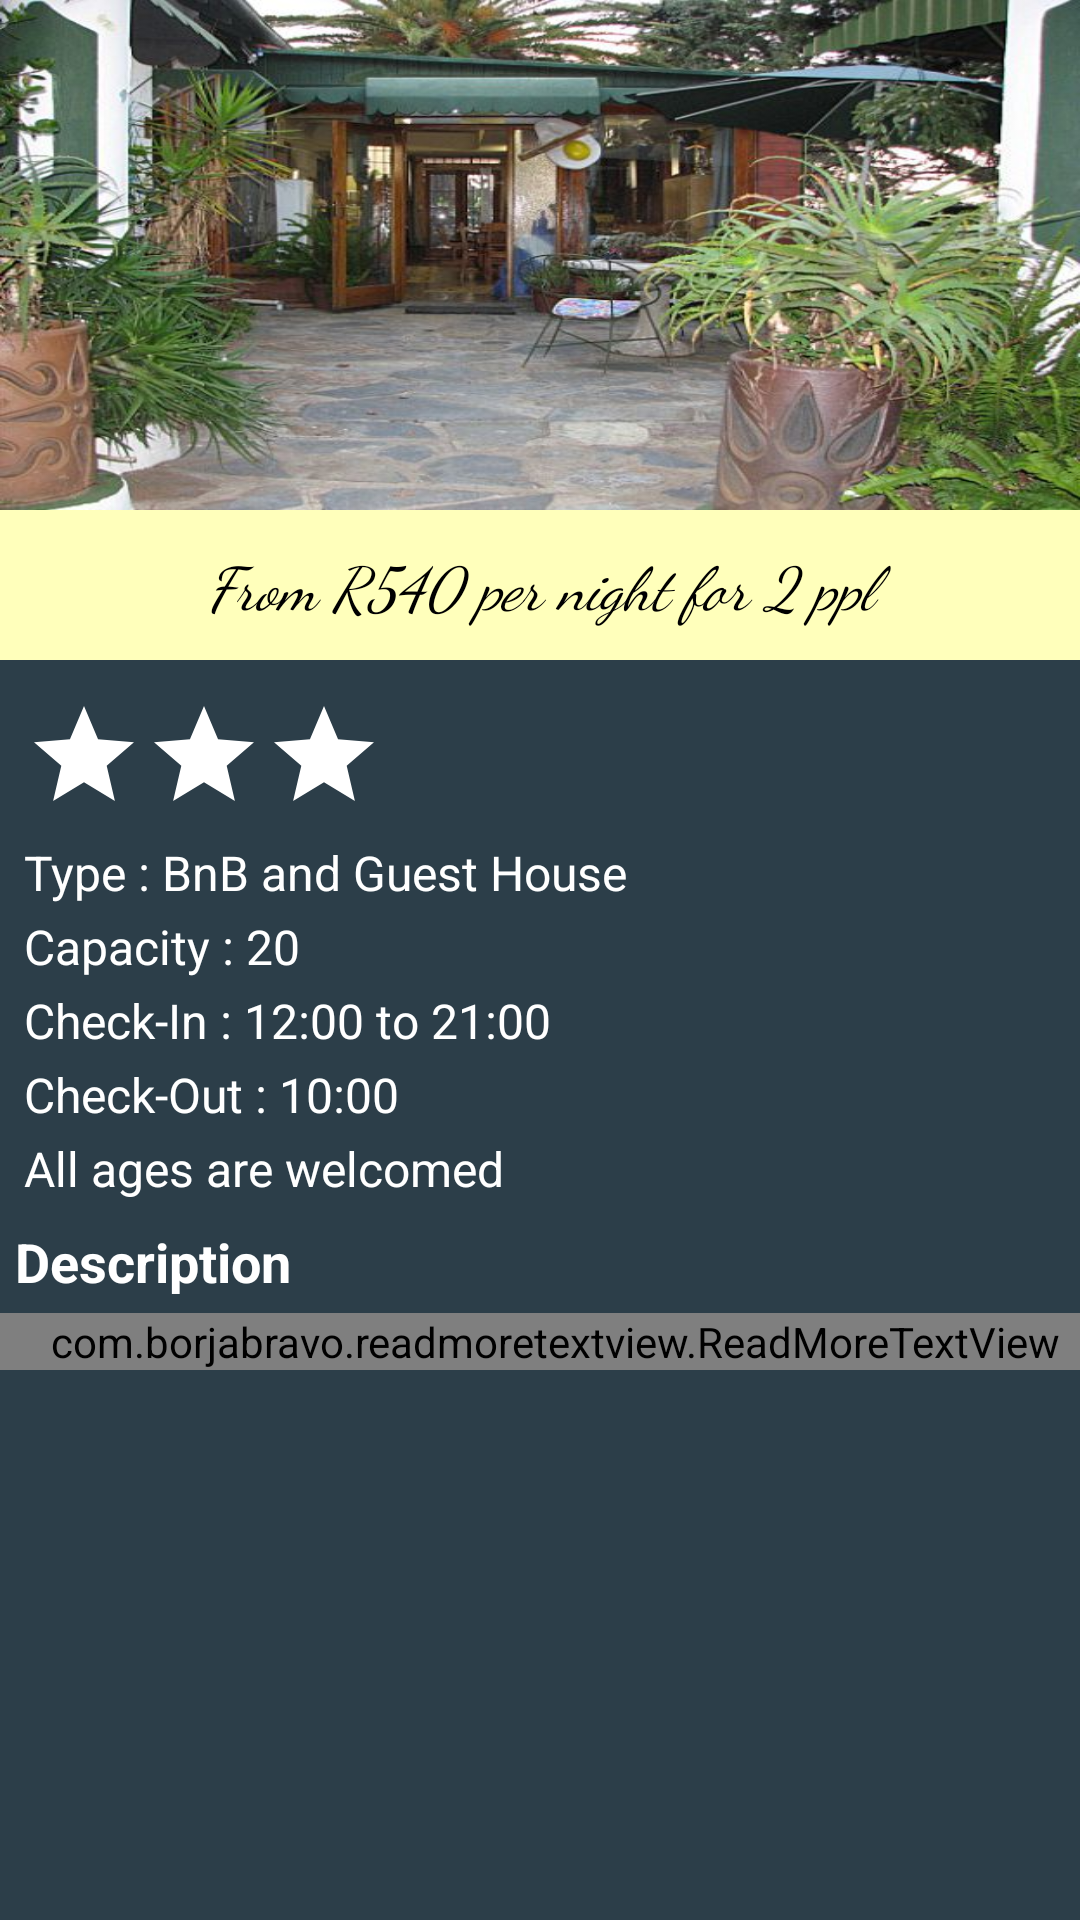

Icon click points for this 1080px×1920px phone screenshot, format point (x, y):
star: point (84, 753), point (204, 753), point (324, 753)
